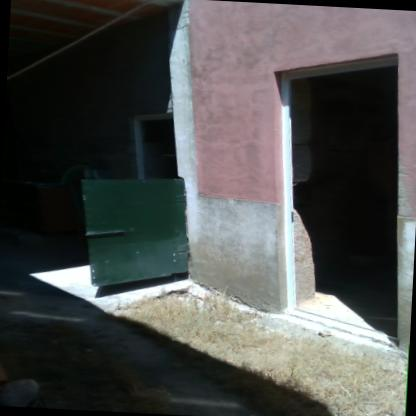open: (255, 48, 416, 351)
